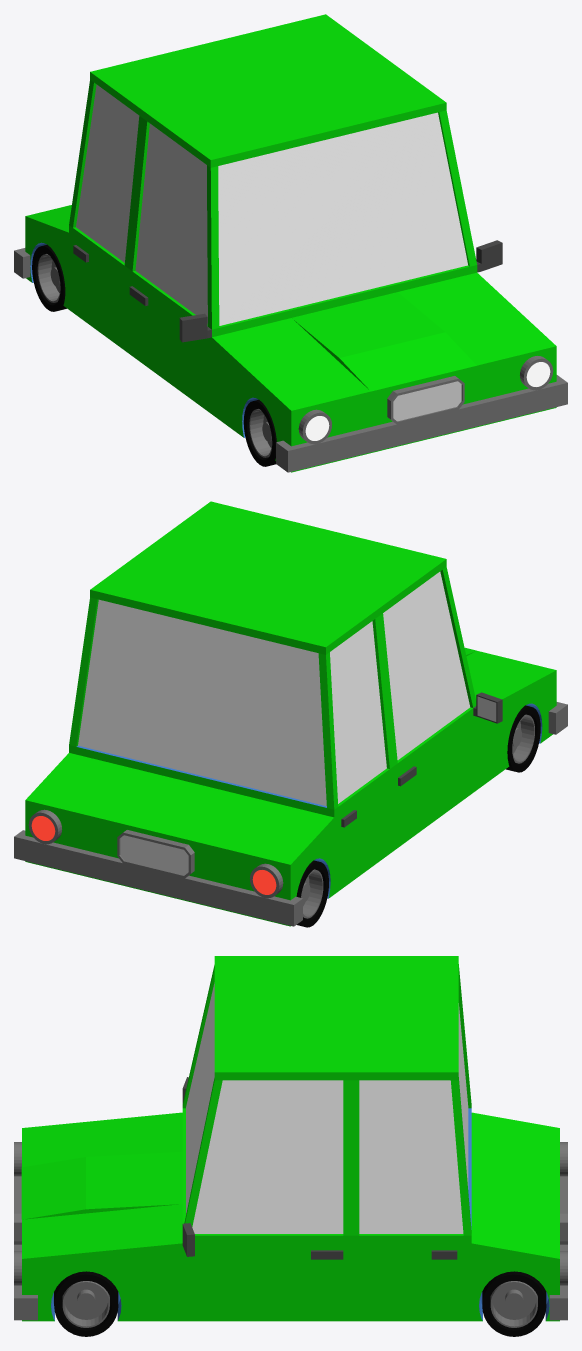
File: car_lev3.glb
The picture shows the model from 3 angles, top to bottom: view 1: azimuth 30°, elevation 25°; view 2: azimuth 150°, elevation 25°; view 3: azimuth 270°, elevation 25°; orthographic projection.
Visible parts, largest first — view 1: car_lev3; view 2: car_lev3; view 3: car_lev3.
Part boxes in pixels (x1,y1,x2,y2): car_lev3: [14, 14, 567, 472]; car_lev3: [14, 501, 567, 927]; car_lev3: [14, 956, 567, 1336].
Bounding box in the file's own units: 1.2 × 0.9134 × 1.78.
